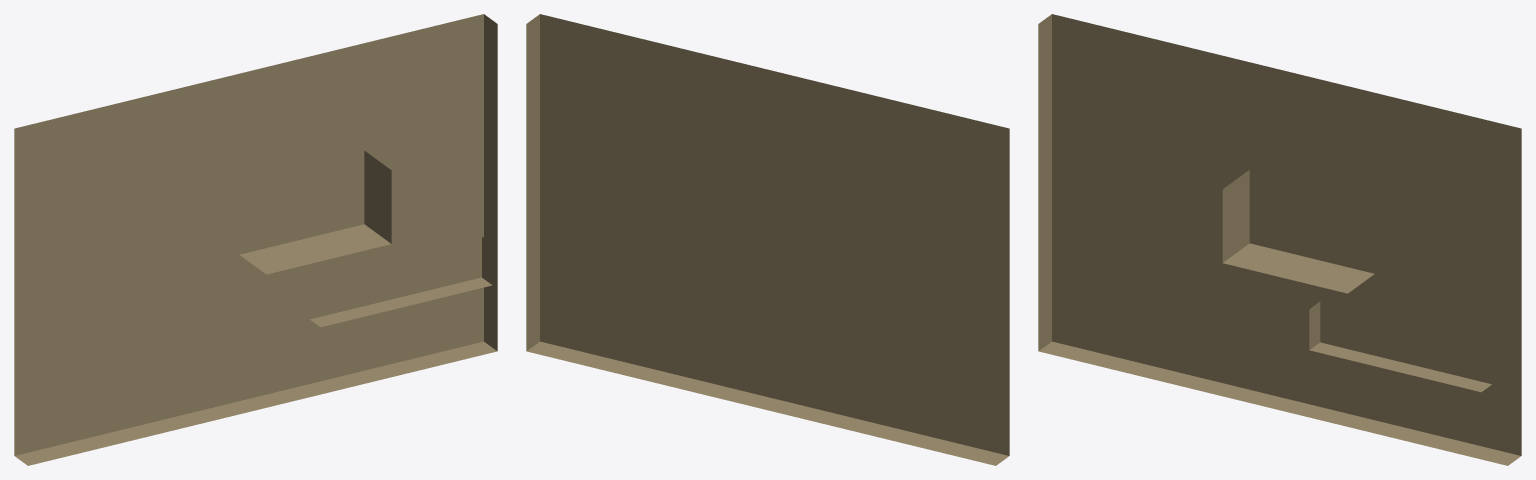
The model's file is SM_MirasCove_Alpha.gltf.
3 views of the same model, side by side, from view 1: azimuth 30°, elevation 25°; view 2: azimuth 150°, elevation 25°; view 3: azimuth 330°, elevation 25° (orthographic).
Parts seen in each view (by area): view 1: SM_MirasCove_Alpha; view 2: SM_MirasCove_Alpha; view 3: SM_MirasCove_Alpha.
Part boxes in pixels (x1,y1,x2,y2): SM_MirasCove_Alpha: (14, 14, 497, 465); SM_MirasCove_Alpha: (526, 14, 1009, 465); SM_MirasCove_Alpha: (1038, 14, 1521, 465).
Size of the model in its own units: 6 by 4 by 0.9.
